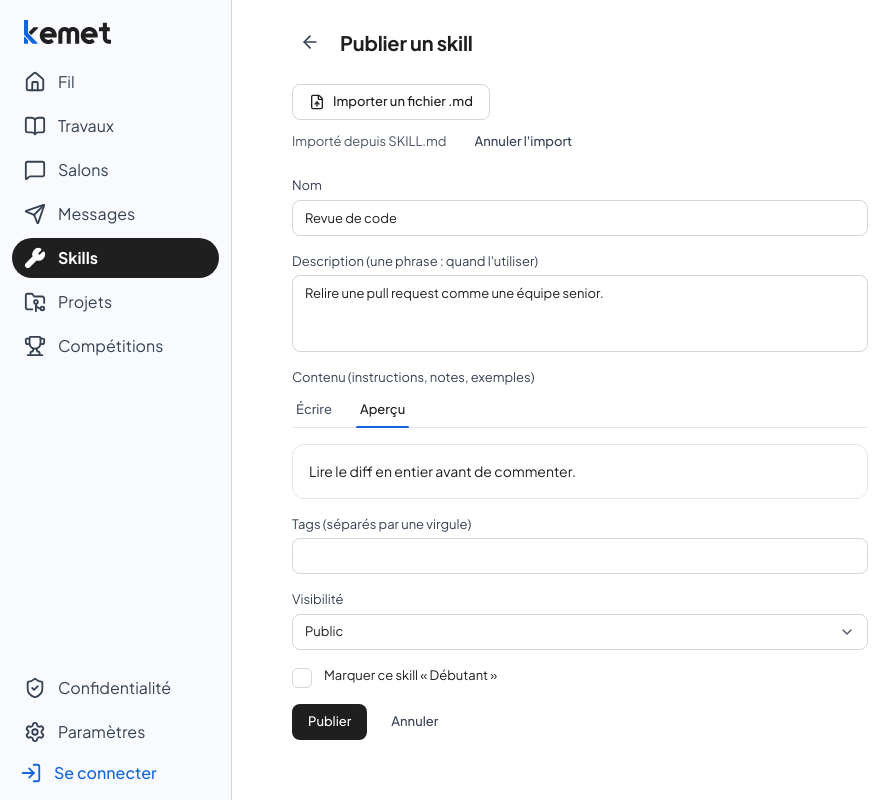
Test: NewSkillPage › importe un fichier puis rend ce qu'on avait écrit quand on annule l'import
The width and height of the screenshot is (885, 800).
Earlier steps of the test are not shown.
Check: the text "Importé depuis SKILL.md" is shown, box [292,132,446,152]
Check: the field labelled "Nom" holds "Revue de code", box [292,200,868,236]
Step 1. Click the button "Annuler l'import" → click(523, 142), box [458,124,588,160]
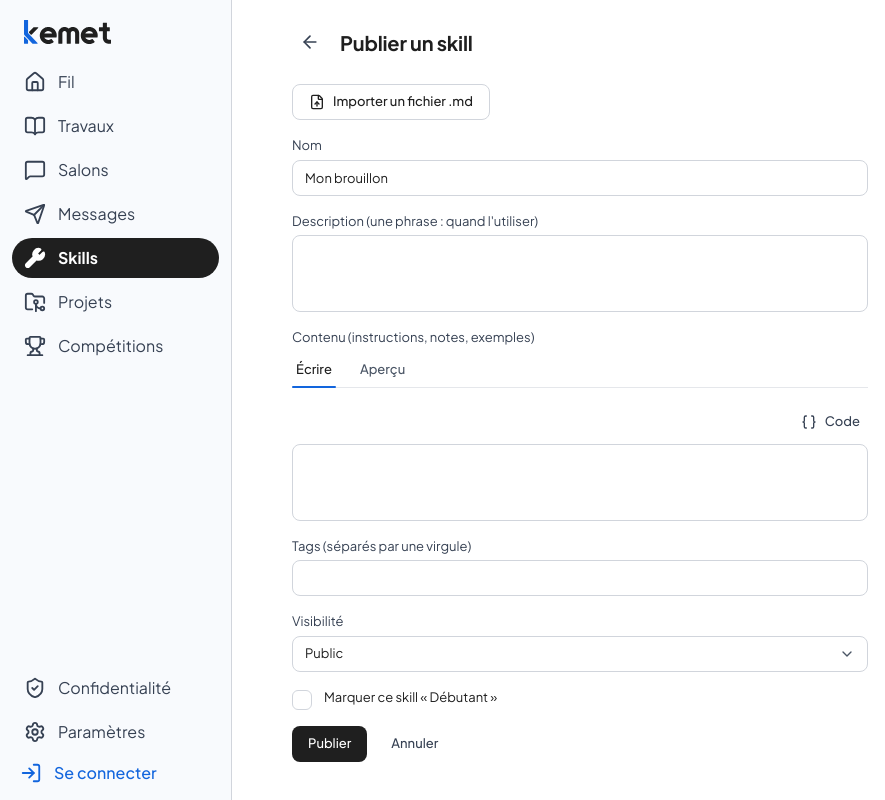
Check: the field labelled "Nom" holds "Mon brouillon", box [292,160,868,196]
Check: the text "Importé depuis SKILL.md" is gone
